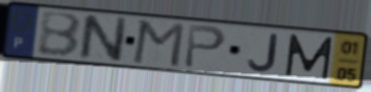B: (36, 11, 85, 59)
J: (245, 33, 280, 74)
M: (130, 19, 187, 70), (283, 32, 336, 81)
N: (78, 13, 131, 64)
P: (181, 22, 228, 70)
